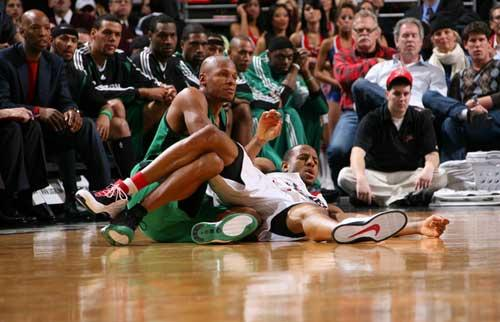10+: (3, 2, 495, 240)
down: (111, 53, 265, 254), (239, 138, 379, 253)
